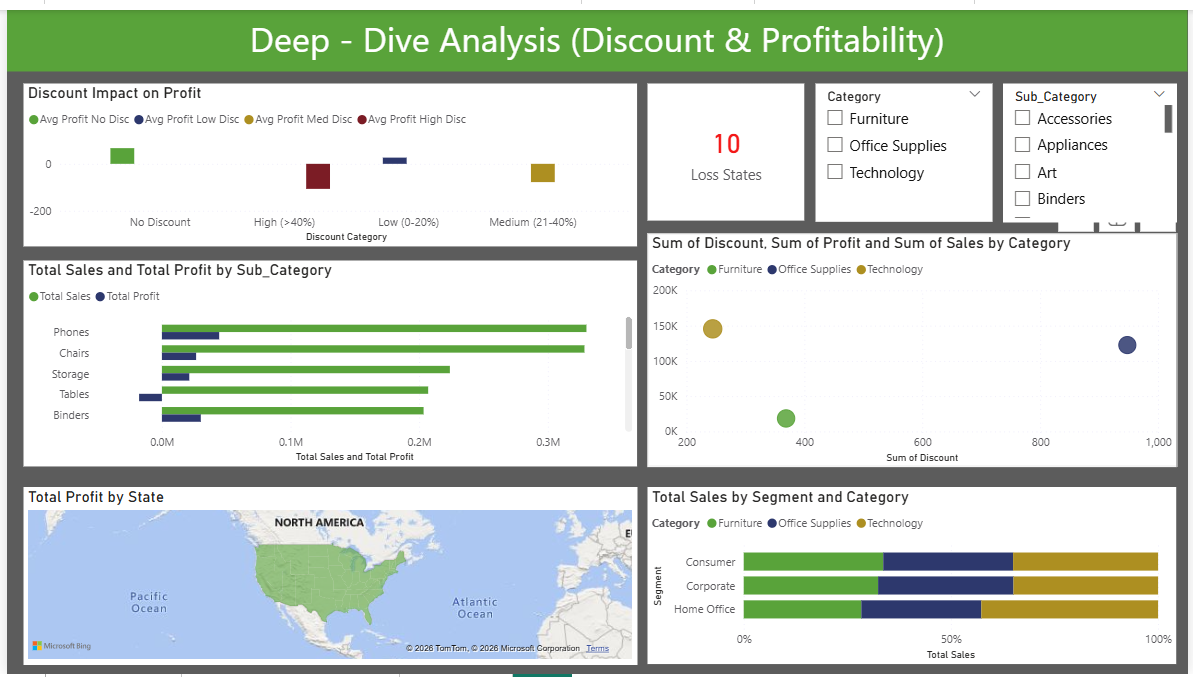

The dashboard page shown, as its layout file describes it:
{"tool":"powerbi","page":{"name":"Deep-Dive Analysis","canvas":[1280,720],"ordinal":1},"visuals":[{"type":"textbox","box":[0,0,1280,66.7],"z":0},{"type":"clusteredColumnChart","title":"Discount Impact on Profit","fields":{"Category":["superstore_sales.Discount Category"],"Y":["superstore_sales.Avg Profit No Disc","superstore_sales.Avg Profit Low Disc","superstore_sales.Avg Profit Med Disc","superstore_sales.Avg Profit High Disc"]},"box":[18.3,80,665,176.7],"z":1000},{"type":"scatterChart","fields":{"X":["Sum(superstore_sales.Discount)"],"Y":["Sum(superstore_sales.Profit)"],"Series":["superstore_sales.Category"],"Size":["Sum(superstore_sales.Sales)"]},"box":[695,241.7,573.3,253.3],"z":2000},{"type":"clusteredBarChart","fields":{"Category":["superstore_sales.Sub_Category"],"Y":["superstore_sales.Total Sales","superstore_sales.Total Profit"]},"box":[18.3,271.7,665,223.3],"z":3000},{"type":"hundredPercentStackedBarChart","fields":{"Category":["superstore_sales.Segment"],"Series":["superstore_sales.Category"],"Y":["superstore_sales.Total Sales"]},"box":[695,516.7,573.3,191.7],"z":4000},{"type":"filledMap","fields":{"Category":["superstore_sales.State"]},"box":[18.3,516.7,665,191.7],"z":5000},{"type":"card","fields":{"Values":["superstore_sales.Loss States"]},"box":[695,80,170,148.3],"z":6000},{"type":"slicer","fields":{"Values":["superstore_sales.Category"]},"box":[876.7,80,191.7,150],"z":7000},{"type":"slicer","fields":{"Values":["superstore_sales.Sub_Category"]},"box":[1080,80,188.3,150],"z":8000}]}

Visuals, with their boxes in screenshot pixels (x1, y1, x2, y2), scaled from the page's 1280x720 canvas onto the 1193x677 screenshot:
textbox: 0, 0, 1192, 63
"Discount Impact on Profit" clusteredColumnChart: 17, 75, 637, 241
scatterChart - Sum(superstore_sales.Discount) x Sum(superstore_sales.Profit): 648, 227, 1182, 465
clusteredBarChart - superstore_sales.Sub_Category x superstore_sales.Total Sales: 17, 255, 637, 465
hundredPercentStackedBarChart - superstore_sales.Segment x superstore_sales.Category: 648, 486, 1182, 666
filledMap - superstore_sales.State: 17, 486, 637, 666
card - superstore_sales.Loss States: 648, 75, 806, 215
slicer - superstore_sales.Category: 817, 75, 996, 216
slicer - superstore_sales.Sub_Category: 1007, 75, 1182, 216
